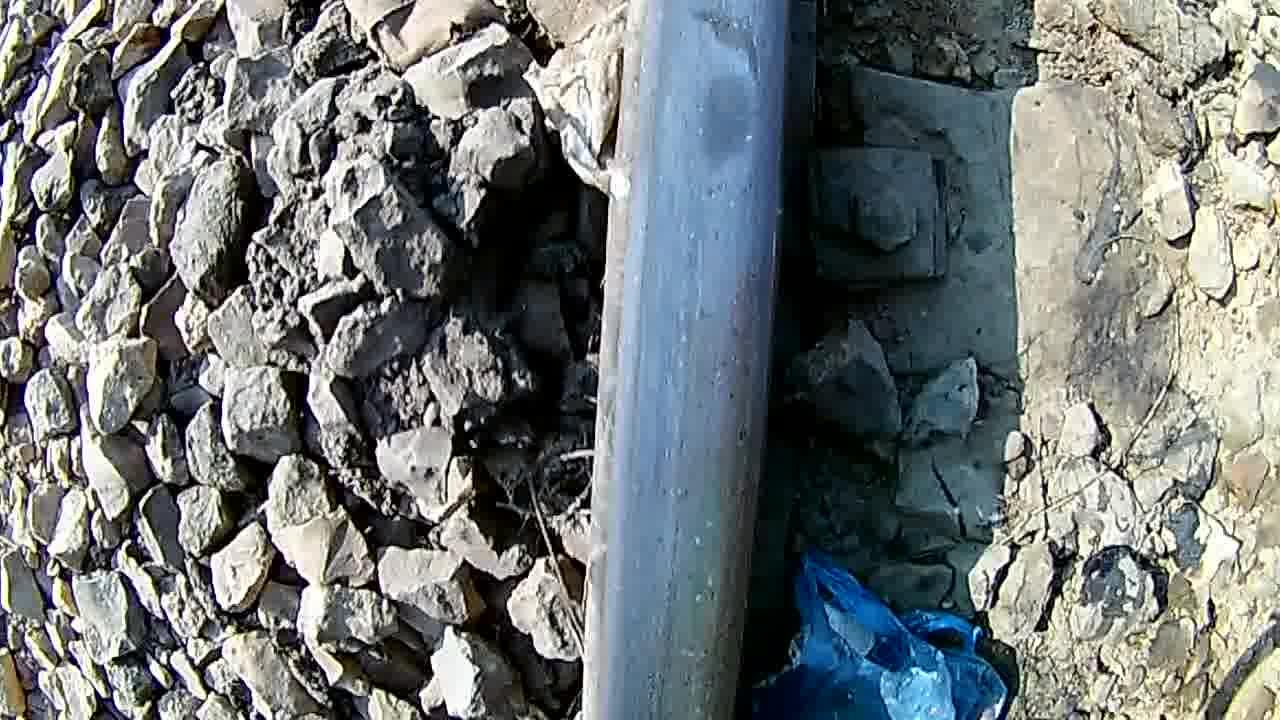bolt_missing: (624, 0, 810, 207)
